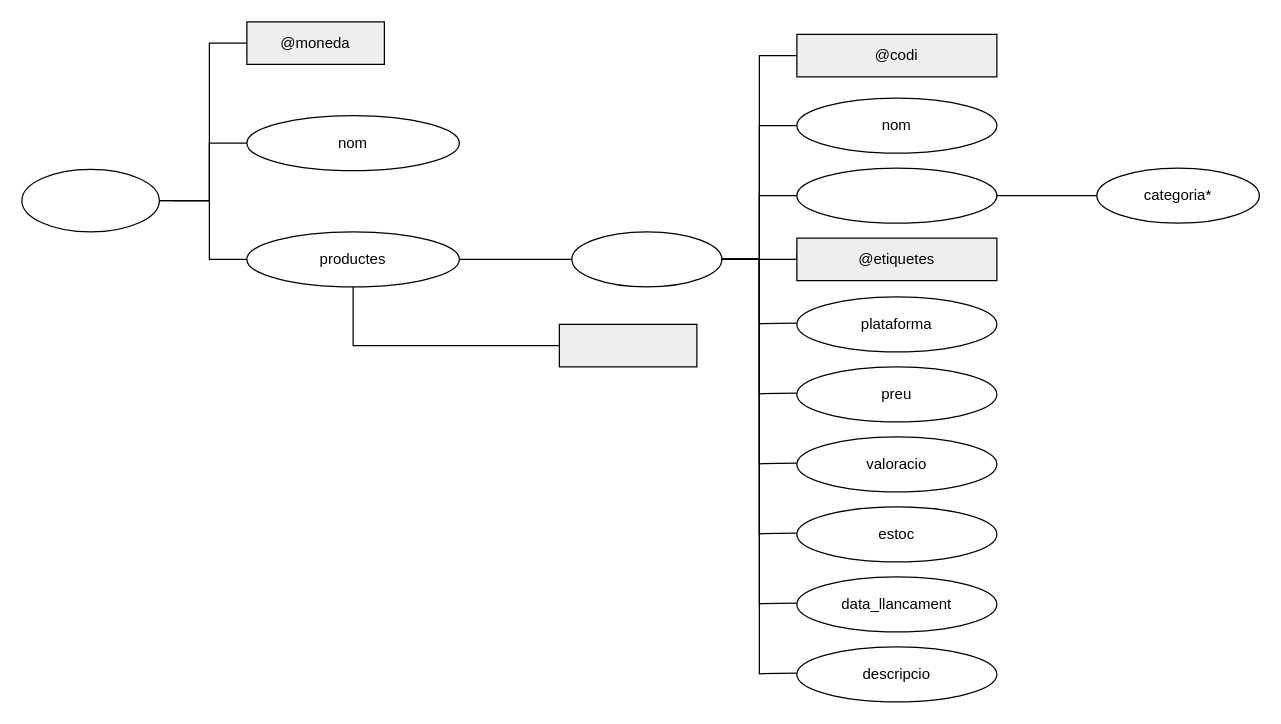
This 1281x724 diagram has some shape labels left out. Here are the shapes that lost their labels. From the top down, the centre of each, then its label:
At point (90, 200): "botiga".
At point (896, 195): "categories".
At point (646, 259): "producte*".
At point (627, 345): "data_actualitzacio".
